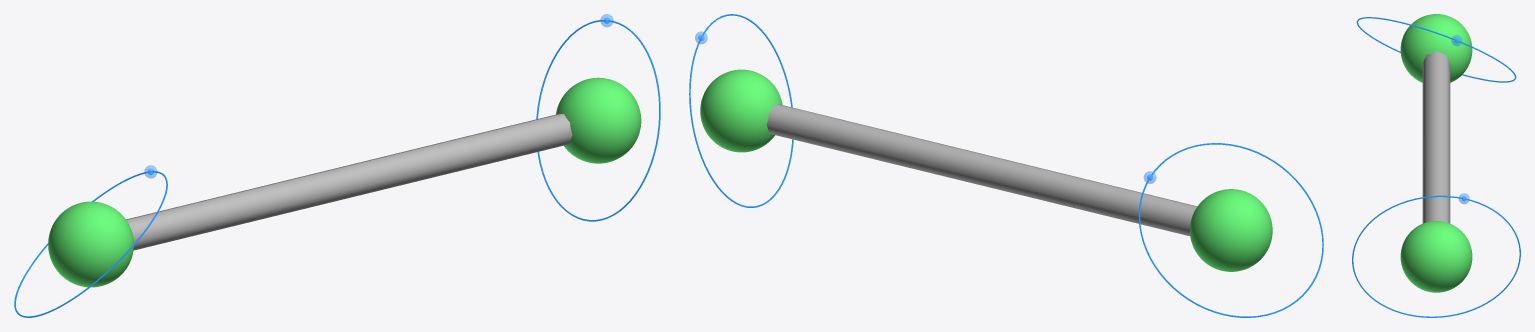
3 renders of one model, left to right at view 1: azimuth 30°, elevation 25°; view 2: azimuth 150°, elevation 25°; view 3: azimuth 270°, elevation 25°, orthographic. The views are drawn at different scales.
Visible parts, largest first — view 1: object 9, H (×2), object 6, object 2; view 2: object 9, H (×2), object 2, object 6; view 3: H (×2), object 9, object 6, object 2.
Part boxes in pixels (bbox=[...]): object 9: bbox=[126, 114, 572, 250]; H (×2): bbox=[48, 77, 641, 287]; object 6: bbox=[536, 20, 660, 221]; object 2: bbox=[14, 171, 167, 317]; object 9: bbox=[766, 104, 1197, 236]; H (×2): bbox=[700, 69, 1272, 271]; object 2: bbox=[1138, 143, 1323, 317]; object 6: bbox=[689, 14, 793, 207]; H (×2): bbox=[1400, 14, 1472, 292]; object 9: bbox=[1422, 51, 1450, 223]; object 6: bbox=[1352, 195, 1520, 317]; object 2: bbox=[1356, 17, 1516, 82].
Bounding box in the file's own units: 8.52 × 2.3 × 2.41.
